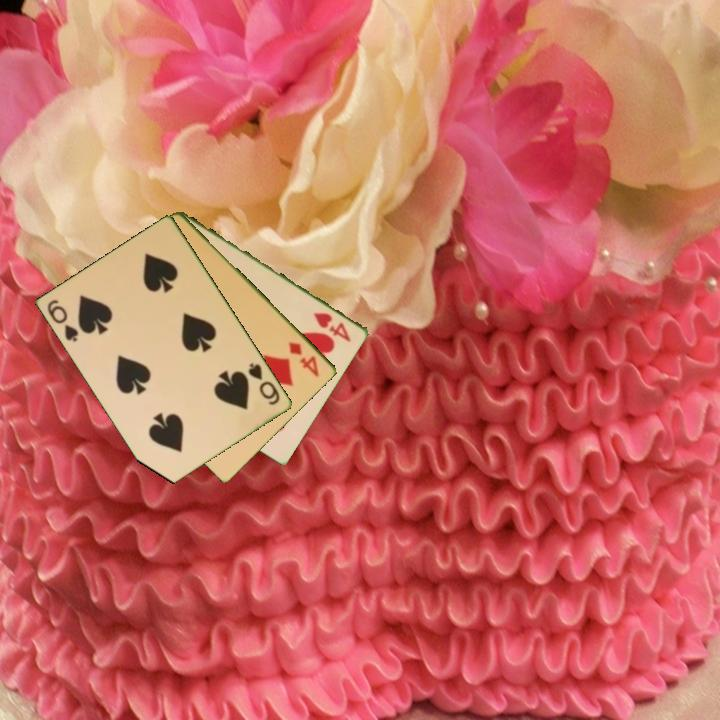4d: (285, 337, 322, 380)
4h: (310, 309, 354, 345)
6s: (245, 359, 283, 408), (44, 296, 82, 345)
